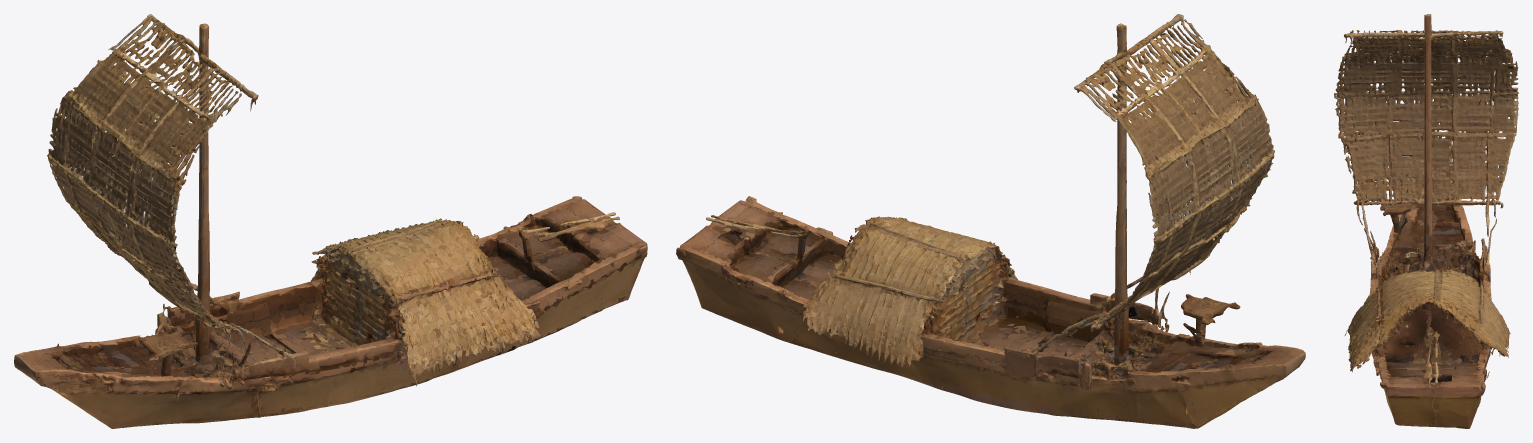
File: Koukaibune.glb
3 renders of one model, left to right at view 1: azimuth 30°, elevation 25°; view 2: azimuth 150°, elevation 25°; view 3: azimuth 270°, elevation 25°, orthographic. The views are drawn at different scales.
Visible parts, largest first — view 1: Geom3D; view 2: Geom3D; view 3: Geom3D.
Part boxes in pixels (left/top/right/bottom): Geom3D: left=14, top=14, right=647, bottom=428; Geom3D: left=676, top=14, right=1305, bottom=428; Geom3D: left=1334, top=14, right=1518, bottom=428.
Bounding box in the file's own units: 15.07 × 9.2 × 5.46.
1 material, 1 textured.
